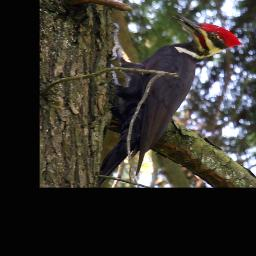Woodpecker: (94, 14, 244, 187)
